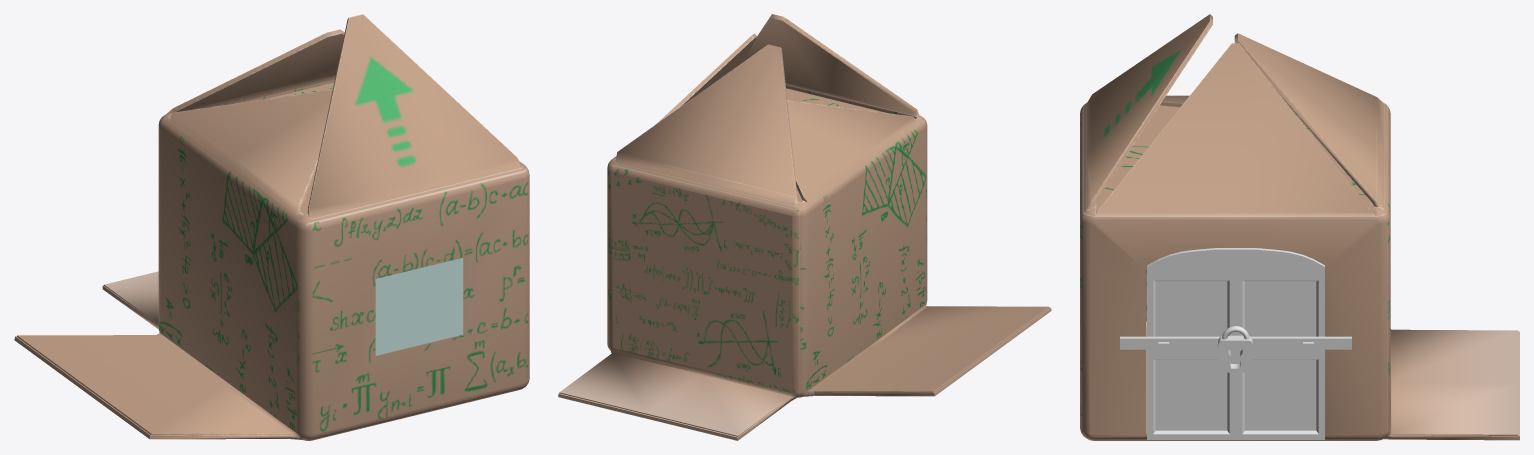
The model's file is Dooshuis met deur met animatie maar met domme fix van chriss.fbx.
3 views of the same model, side by side, from view 1: azimuth 30°, elevation 25°; view 2: azimuth 150°, elevation 25°; view 3: azimuth 270°, elevation 25° (orthographic). The views are drawn at different scales.
Parts seen in each view (by area): view 1: Cube_4, Cube_2; view 2: Cube_4, Cube_2; view 3: Cube_4, Cube, Cube_2, Cube_1, Torus_1.
Boxes of the visible parts, box(x1,y1,x2,y2) form: Cube_4: box(14, 14, 529, 440); Cube_2: box(17, 33, 343, 435); Cube_4: box(558, 14, 1051, 440); Cube_2: box(559, 17, 1049, 436); Cube_4: box(1080, 14, 1519, 440); Cube: box(1147, 248, 1324, 439); Cube_2: box(1095, 24, 1518, 435); Cube_1: box(1120, 336, 1351, 349); Torus_1: box(1217, 326, 1253, 372).
Size of the model in its own units: 1122 by 969 by 1045.
Materials: 1 (1 with a texture image).
